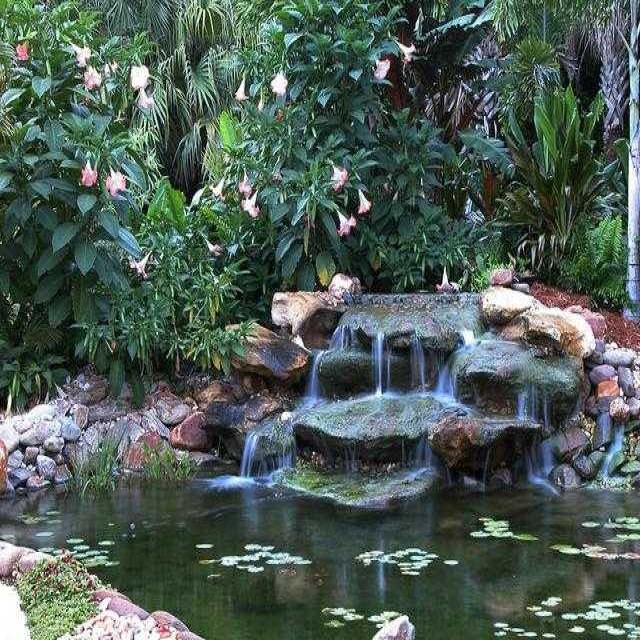Ponds: (1, 289, 640, 640)
